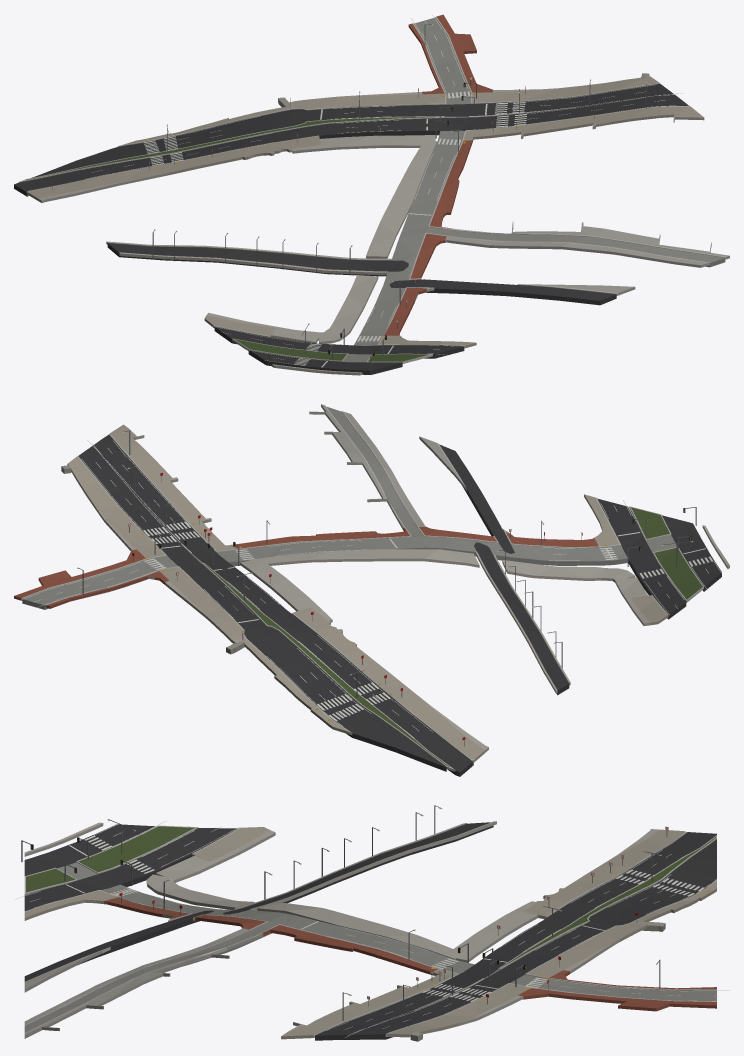
The picture shows the model from 3 angles, top to bottom: view 1: azimuth 30°, elevation 25°; view 2: azimuth 150°, elevation 25°; view 3: azimuth 270°, elevation 25°; orthographic projection. The views are drawn at different scales.
Bounding box in the file's own units: 151 × 28.79 × 151.
